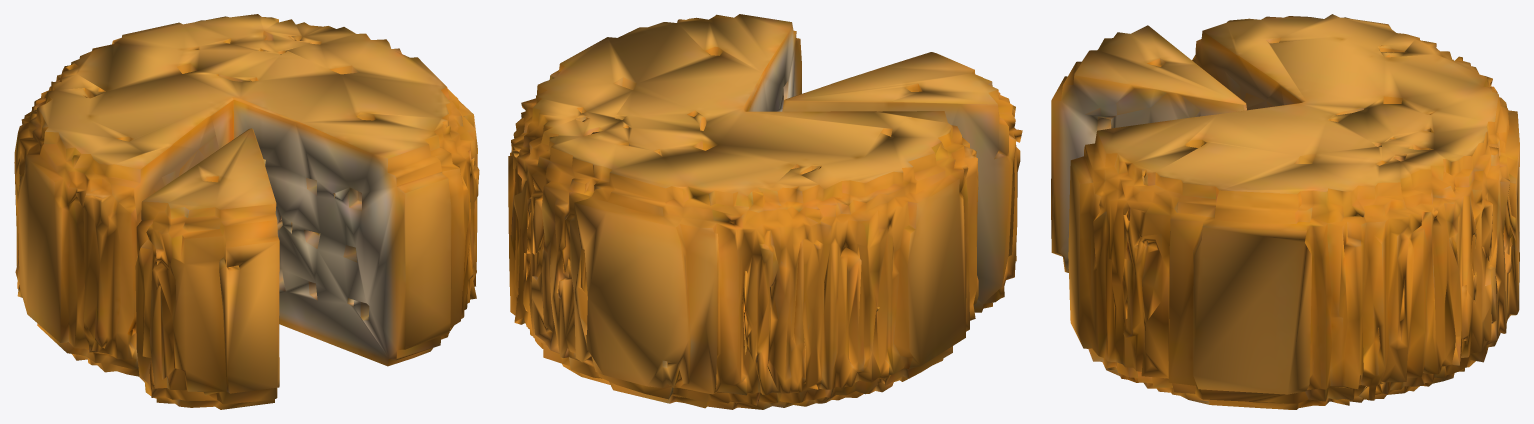
Rendered from food-cheese-wheel.glb.
3 views of the same model, side by side, from view 1: azimuth 30°, elevation 25°; view 2: azimuth 150°, elevation 25°; view 3: azimuth 270°, elevation 25° (orthographic). The views are drawn at different scales.
Visible parts, largest first — view 1: food-cheese-wheel; view 2: food-cheese-wheel; view 3: food-cheese-wheel.
Boxes of the visible parts, x1,y1,x2,y2 form: food-cheese-wheel: (14, 14, 479, 409); food-cheese-wheel: (508, 14, 1022, 409); food-cheese-wheel: (1051, 14, 1519, 409).
Size of the model in its own units: 0.8188 by 0.4211 by 0.82.
Materials: 1 (1 with a texture image).
